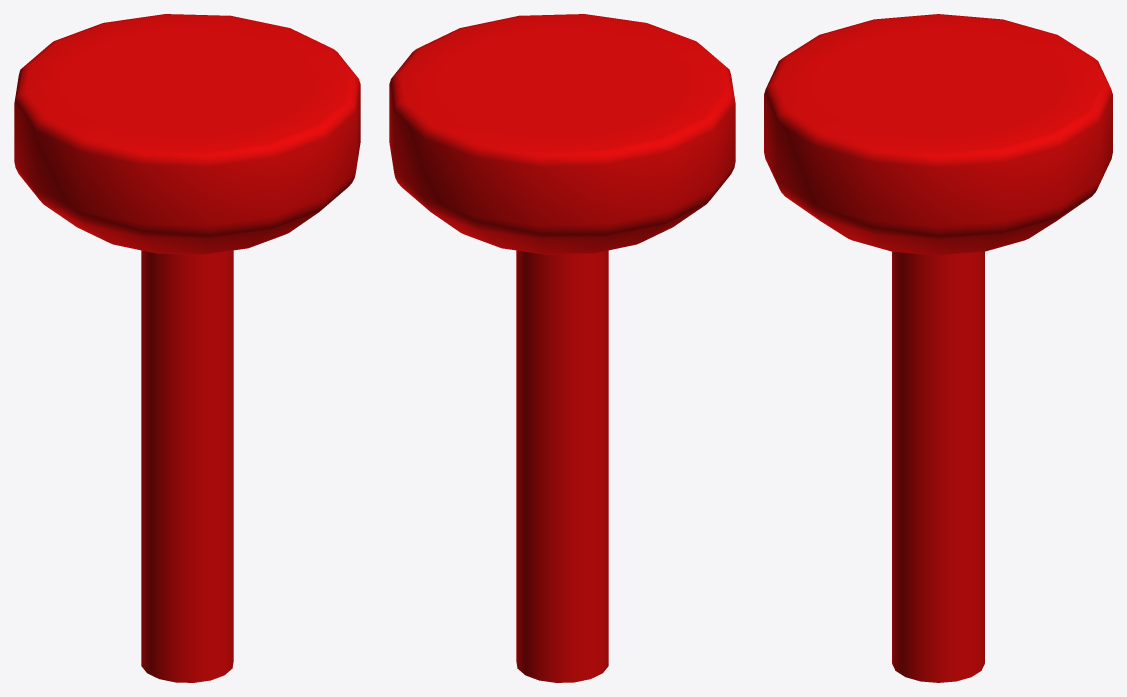
The model's file is projo mobile pied.fbx.
3 renders of one model, left to right at view 1: azimuth 30°, elevation 25°; view 2: azimuth 150°, elevation 25°; view 3: azimuth 270°, elevation 25°, orthographic.
Visible parts, largest first — view 1: Cube.016; view 2: Cube.016; view 3: Cube.016.
Part boxes in pixels (x1=…): Cube.016: x1=14, y1=14, x2=360, y2=682; Cube.016: x1=389, y1=14, x2=735, y2=682; Cube.016: x1=764, y1=14, x2=1112, y2=682.
Size of the model in its own units: 29.07 by 53.29 by 29.07.
